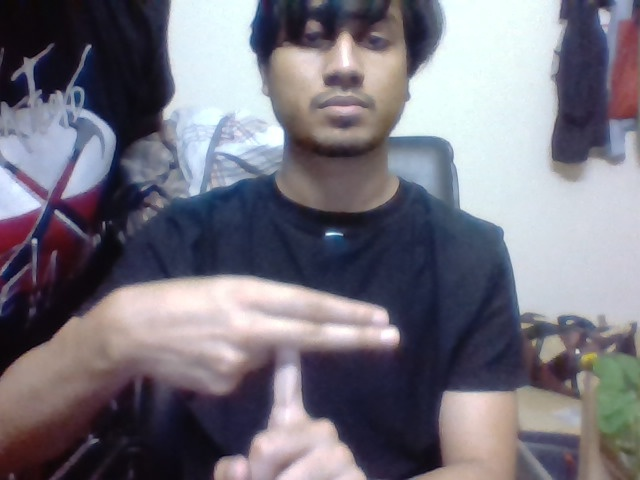F: (253, 265, 405, 412)
